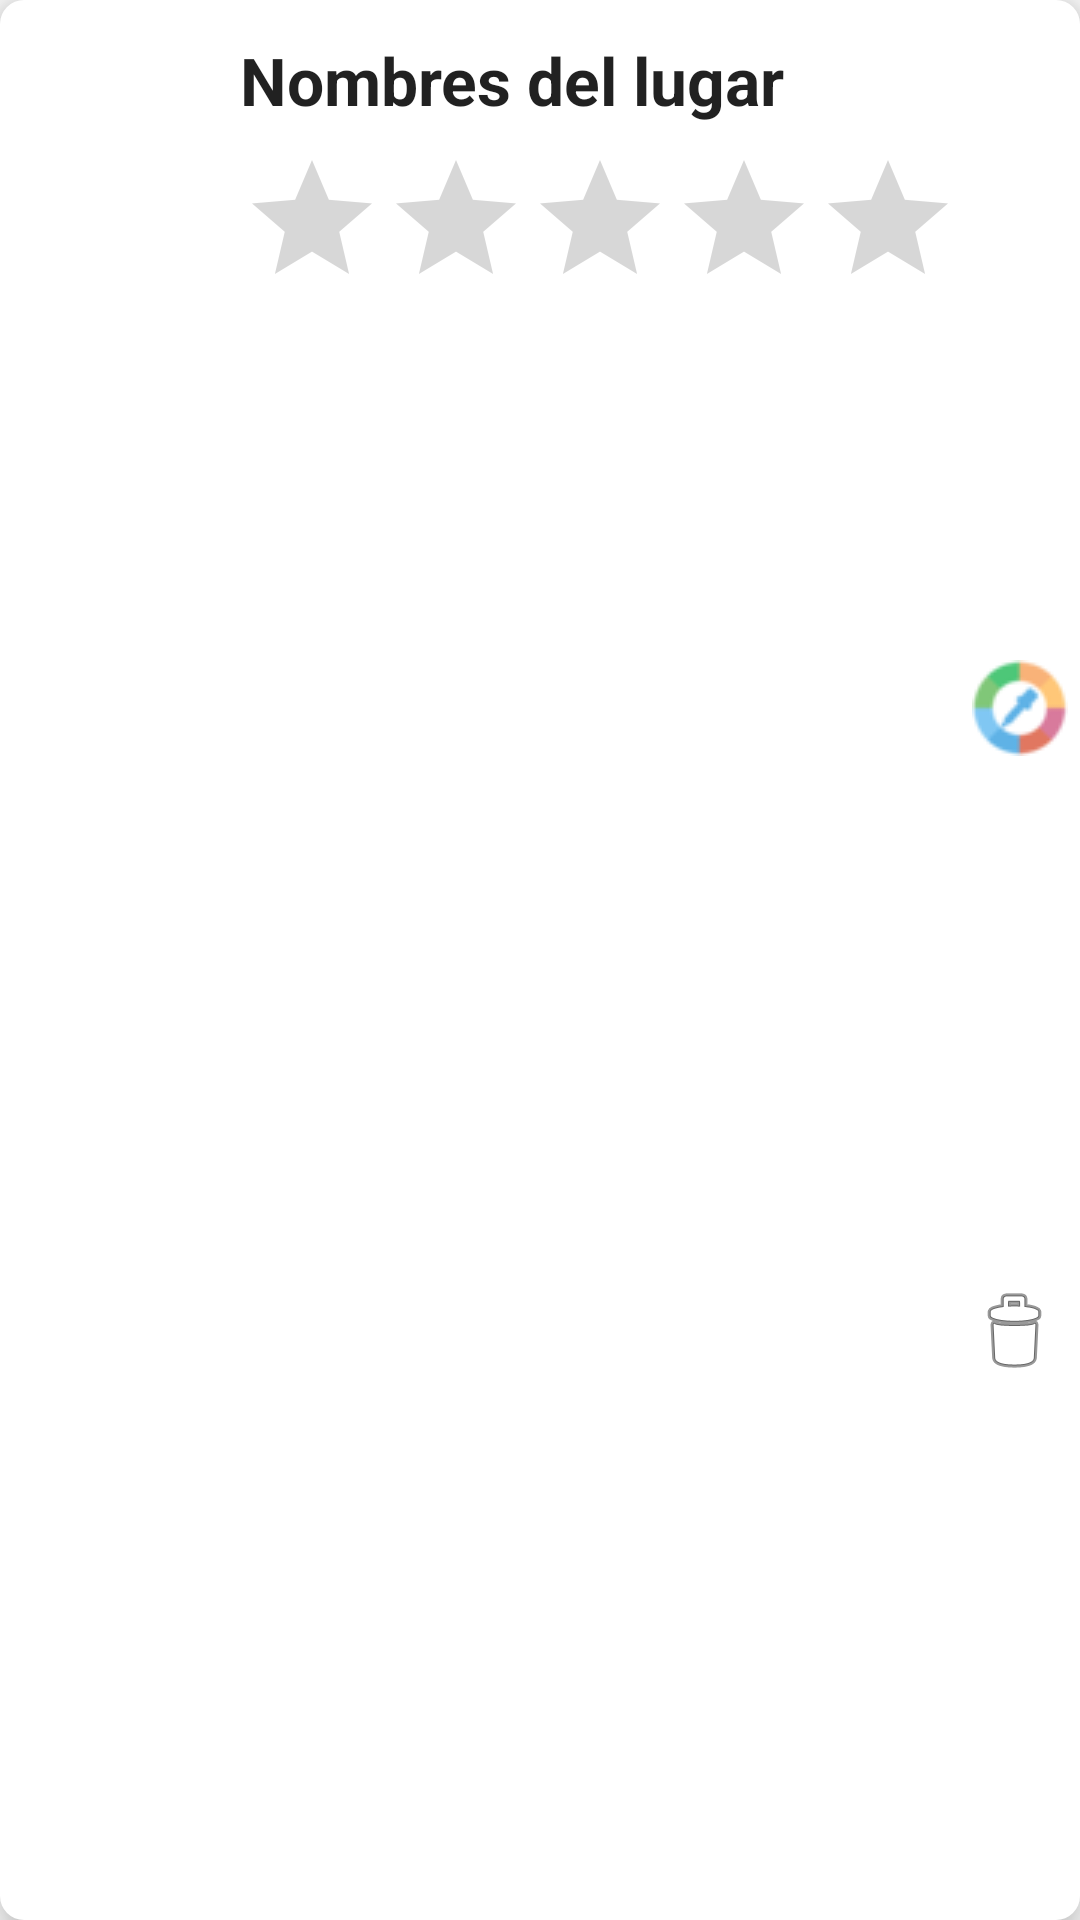

Icons on this 1080×1920 Android screen, each with its box as [left=x1, top=y1, right=x2, bottom=y2]:
Borrar: [left=987, top=1293, right=1042, bottom=1368]
Seleccionar Color: [left=972, top=660, right=1066, bottom=756]
